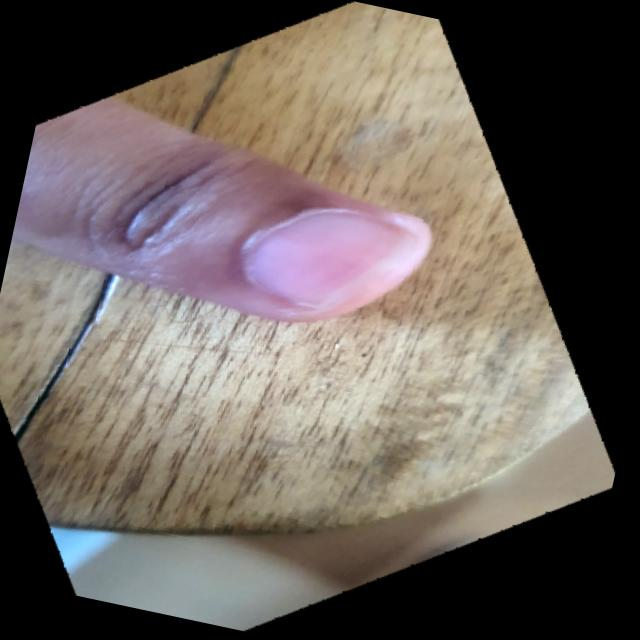Nail: (249, 208, 415, 309)
